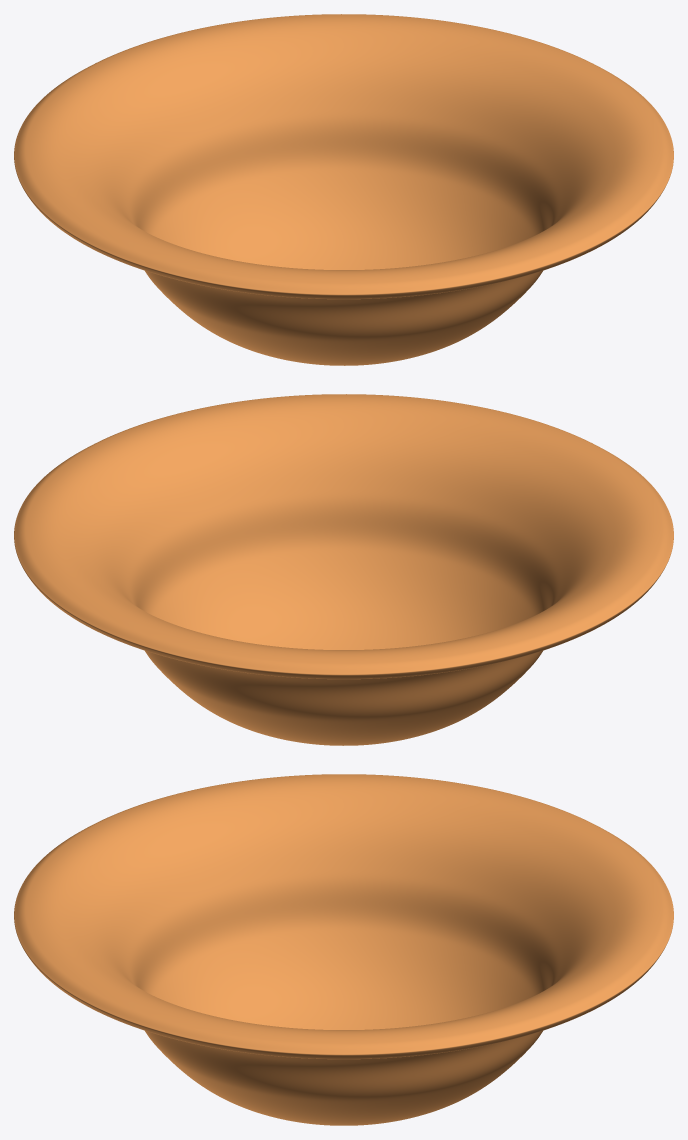
The picture shows the model from 3 angles, top to bottom: view 1: azimuth 30°, elevation 25°; view 2: azimuth 150°, elevation 25°; view 3: azimuth 270°, elevation 25°; orthographic projection.
Parts seen in each view (by area): view 1: Plate; view 2: Plate; view 3: Plate.
Boxes of the visible parts, x1=… form: Plate: x1=14, y1=14, x2=673, y2=365; Plate: x1=14, y1=394, x2=673, y2=745; Plate: x1=14, y1=774, x2=673, y2=1125.
Size of the model in its own units: 0.3011 by 0.09 by 0.3011.
